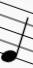note: (1, 1, 30, 65)
